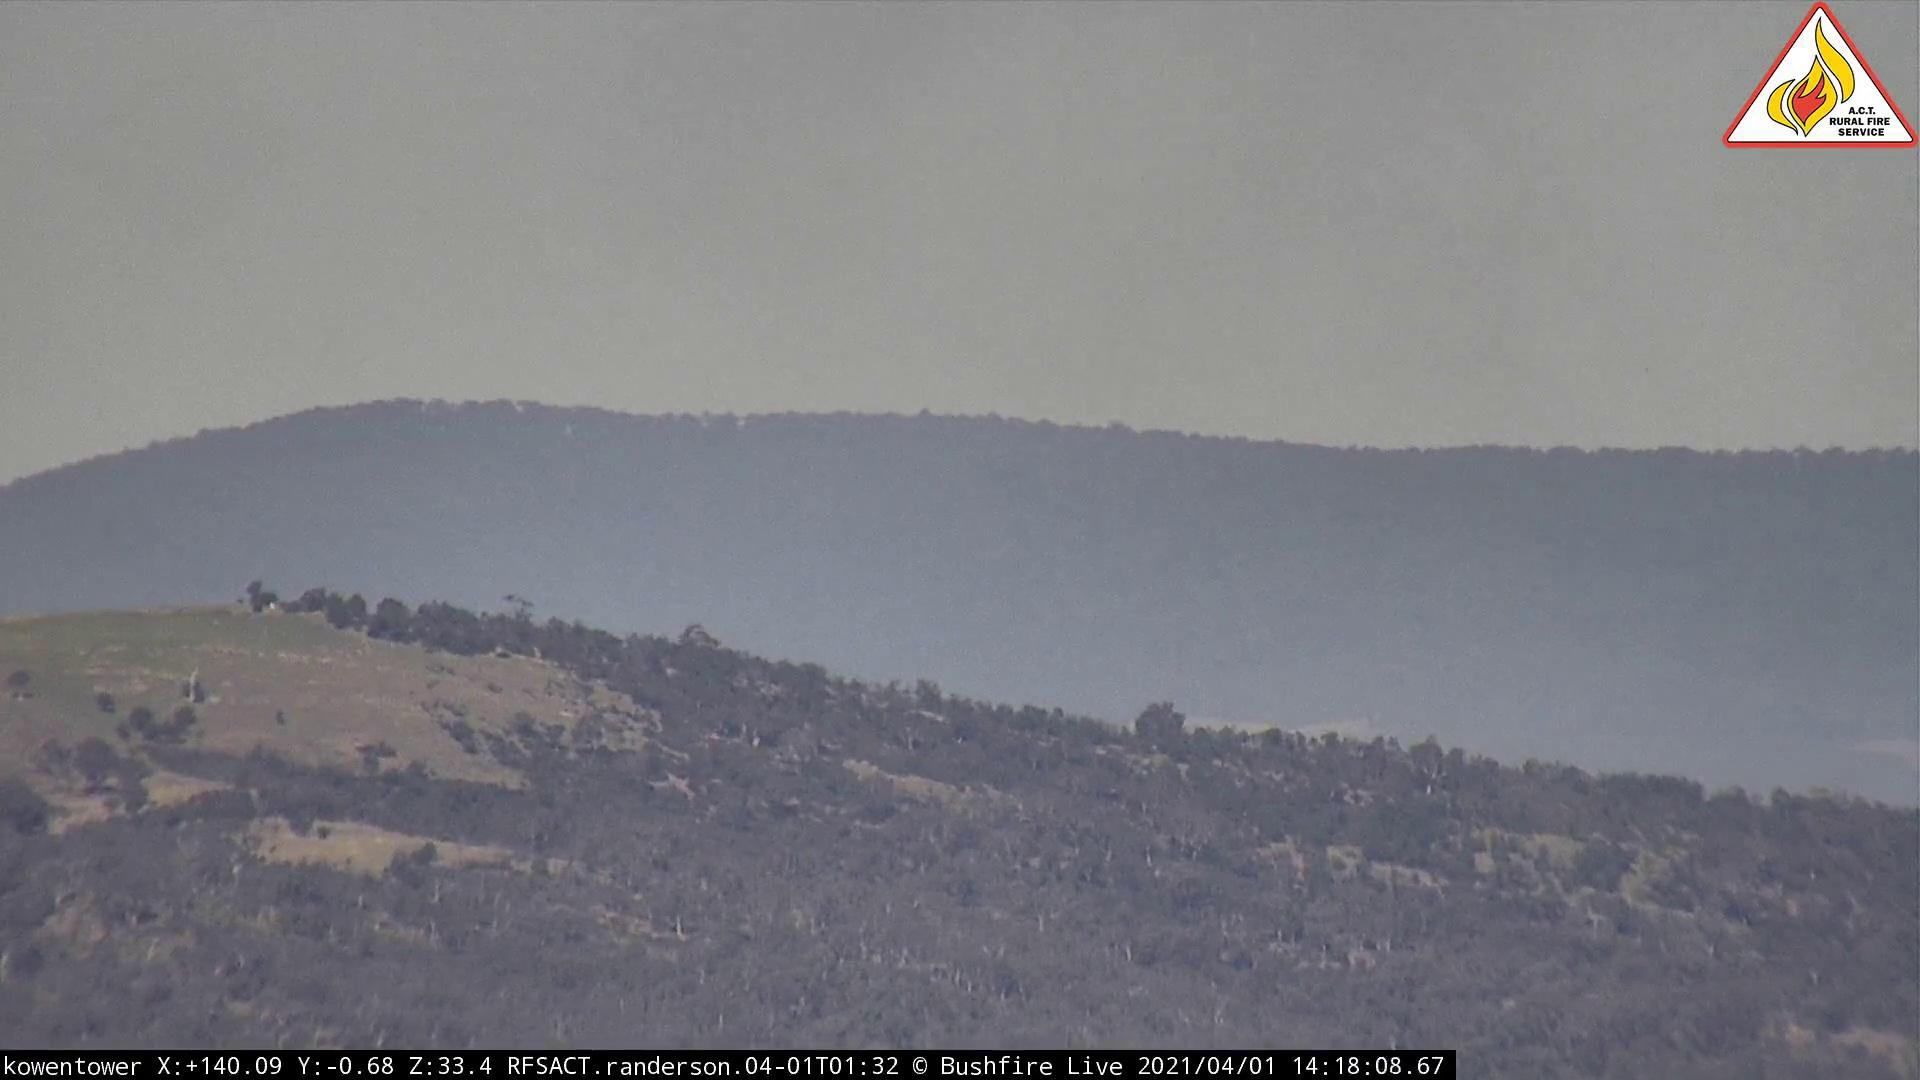Smoke: (589, 3, 1665, 465)
